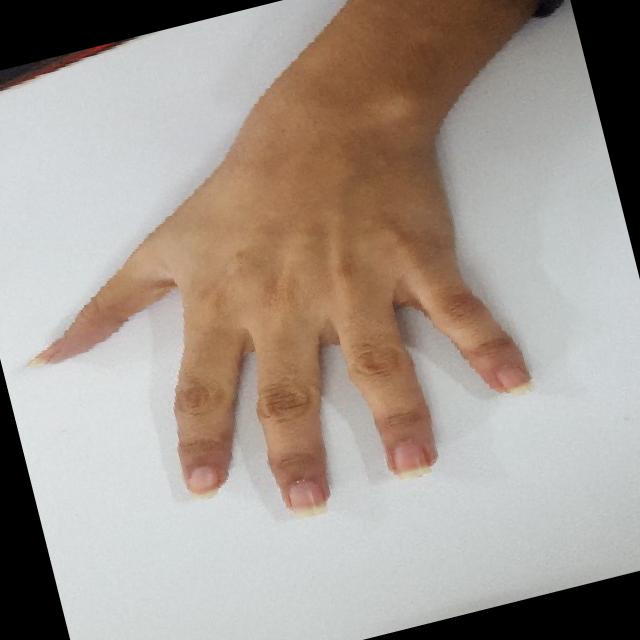Nail: (392, 438, 430, 475), (288, 479, 326, 516), (27, 331, 67, 366), (187, 464, 218, 495), (496, 364, 528, 390)
